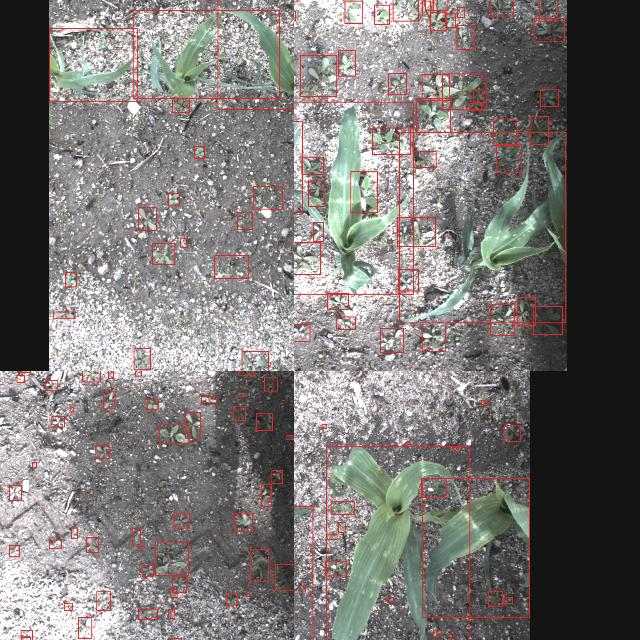crop: (398, 132, 566, 322), (326, 445, 470, 640), (294, 101, 412, 293), (422, 477, 530, 617), (132, 10, 278, 98), (217, 0, 294, 108), (48, 28, 136, 100)
weed: (442, 73, 486, 109), (300, 54, 336, 96), (416, 97, 450, 131), (154, 541, 188, 575), (397, 216, 435, 246), (349, 170, 376, 212), (372, 127, 411, 153), (532, 306, 562, 334), (294, 242, 319, 274), (214, 255, 248, 278), (421, 74, 449, 100), (490, 304, 514, 334), (496, 143, 520, 171), (534, 18, 564, 40), (422, 322, 444, 351), (493, 118, 517, 144), (254, 186, 282, 208), (379, 327, 403, 351), (250, 549, 268, 581), (159, 423, 189, 442), (241, 351, 268, 371), (517, 297, 535, 325), (530, 116, 548, 144), (392, 0, 417, 20), (275, 564, 294, 590), (420, 478, 446, 497), (152, 242, 174, 264), (398, 268, 418, 290), (412, 150, 436, 168), (456, 25, 474, 49), (338, 49, 354, 75), (307, 180, 323, 206), (184, 411, 200, 437), (138, 207, 156, 230), (344, 0, 362, 22), (388, 72, 406, 94), (301, 156, 323, 174), (539, 0, 557, 20), (324, 560, 346, 576), (489, 0, 512, 15), (327, 292, 348, 308), (540, 88, 558, 106), (234, 512, 252, 530), (133, 348, 149, 368), (331, 501, 354, 514), (430, 12, 446, 30), (256, 412, 272, 430), (374, 4, 388, 24), (96, 590, 110, 610), (78, 616, 90, 638), (236, 212, 252, 228), (504, 425, 520, 441), (294, 323, 309, 340), (336, 316, 354, 329), (172, 98, 188, 112), (172, 576, 186, 592), (174, 512, 188, 528), (488, 590, 502, 606), (261, 484, 271, 506), (102, 390, 114, 408), (7, 484, 20, 500), (86, 536, 98, 552), (95, 444, 108, 458), (313, 222, 323, 240), (138, 608, 156, 618), (81, 371, 99, 381), (64, 272, 76, 286), (226, 592, 238, 606), (233, 406, 245, 420), (264, 378, 278, 390), (445, 12, 455, 28), (432, 0, 447, 10), (473, 88, 483, 102), (50, 416, 64, 426), (44, 379, 58, 389), (52, 312, 74, 318), (20, 629, 32, 640), (168, 192, 178, 205), (132, 528, 140, 544), (194, 146, 204, 158), (422, 1, 430, 16), (142, 564, 152, 576), (8, 544, 18, 556), (48, 538, 60, 548), (272, 470, 282, 482), (146, 399, 158, 409), (469, 102, 481, 110), (424, 0, 433, 10), (202, 396, 216, 402), (456, 7, 464, 17), (180, 237, 187, 247), (64, 602, 72, 610), (16, 374, 24, 382), (168, 608, 174, 618), (71, 527, 77, 537), (338, 522, 344, 532), (503, 597, 512, 603), (237, 371, 254, 374), (170, 589, 176, 597), (299, 584, 305, 592), (433, 630, 441, 636), (448, 632, 453, 640), (326, 534, 336, 538), (20, 636, 29, 640), (169, 637, 181, 640), (387, 596, 393, 602), (107, 371, 112, 378), (238, 392, 246, 396), (287, 435, 294, 439), (135, 371, 141, 375), (69, 406, 73, 412), (454, 446, 458, 452), (404, 441, 410, 445), (320, 424, 326, 428), (481, 400, 487, 404), (32, 462, 36, 466), (247, 590, 249, 596), (140, 545, 144, 547)
